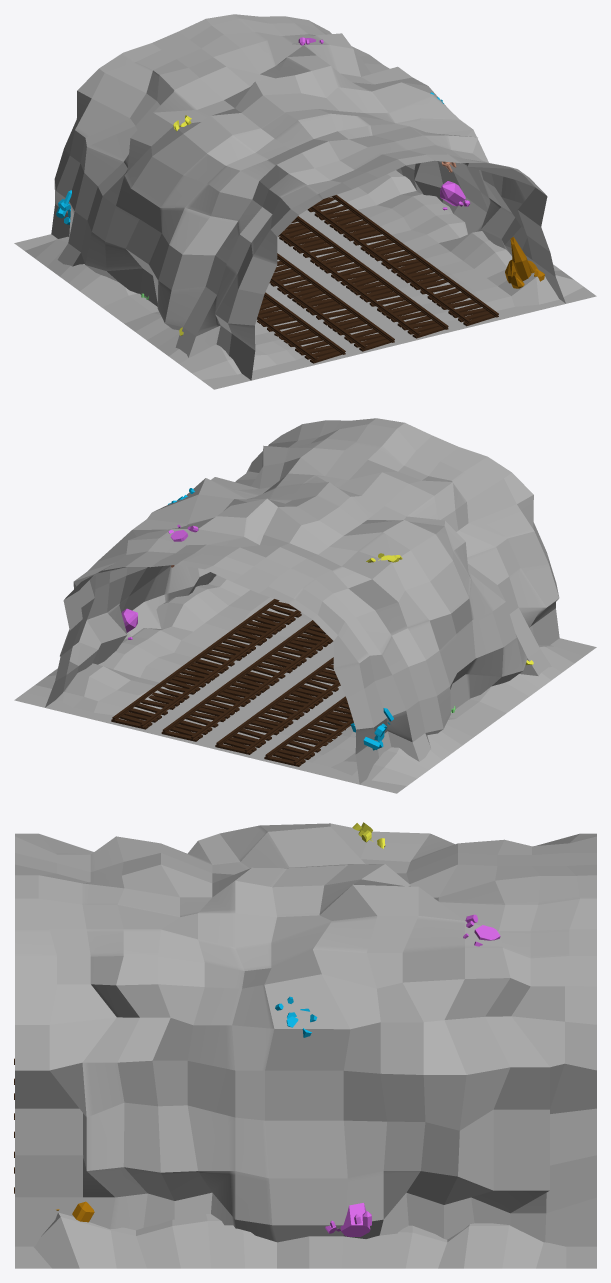
File: tunnel variation 1.fbx
3 views of the same model, one above another, from view 1: azimuth 30°, elevation 25°; view 2: azimuth 150°, elevation 25°; view 3: azimuth 270°, elevation 25° (orthographic). The views are drawn at different scales.
Parts seen in each view (by area): view 1: floor_low, rails_low, gem_low; view 2: floor_low, rails_low, gem_low; view 3: floor_low, gem_low.
Boxes of the visible parts, box(x1,y1,x2,y2) form: floor_low: box(14, 14, 596, 389); rails_low: box(257, 195, 498, 363); gem_low: box(56, 37, 544, 335); floor_low: box(14, 418, 596, 793); rails_low: box(111, 599, 353, 766); gem_low: box(121, 488, 533, 750); floor_low: box(15, 823, 596, 1268); gem_low: box(56, 822, 500, 1236).
Size of the model in its own units: 2253 by 1024 by 2044.
